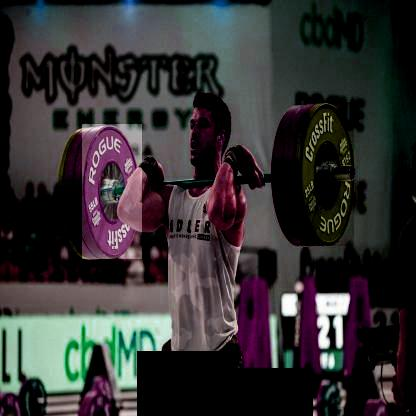barbell: (83, 125, 143, 260), (301, 104, 354, 248)
